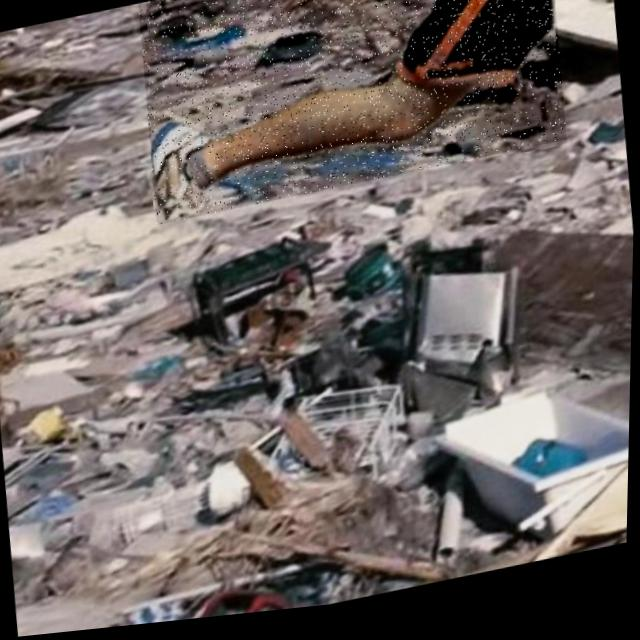Person in Rubble: (134, 0, 570, 230)
